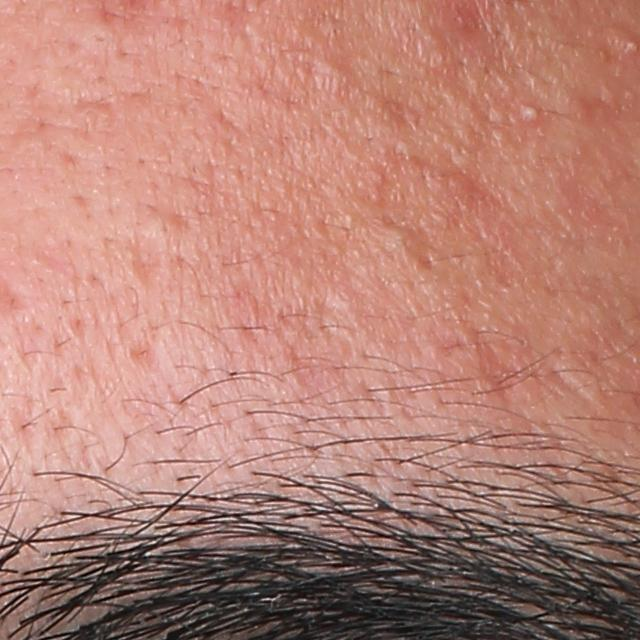atrophic_scar: (127, 240, 171, 287), (122, 335, 166, 377)
pustule: (516, 99, 539, 127)
